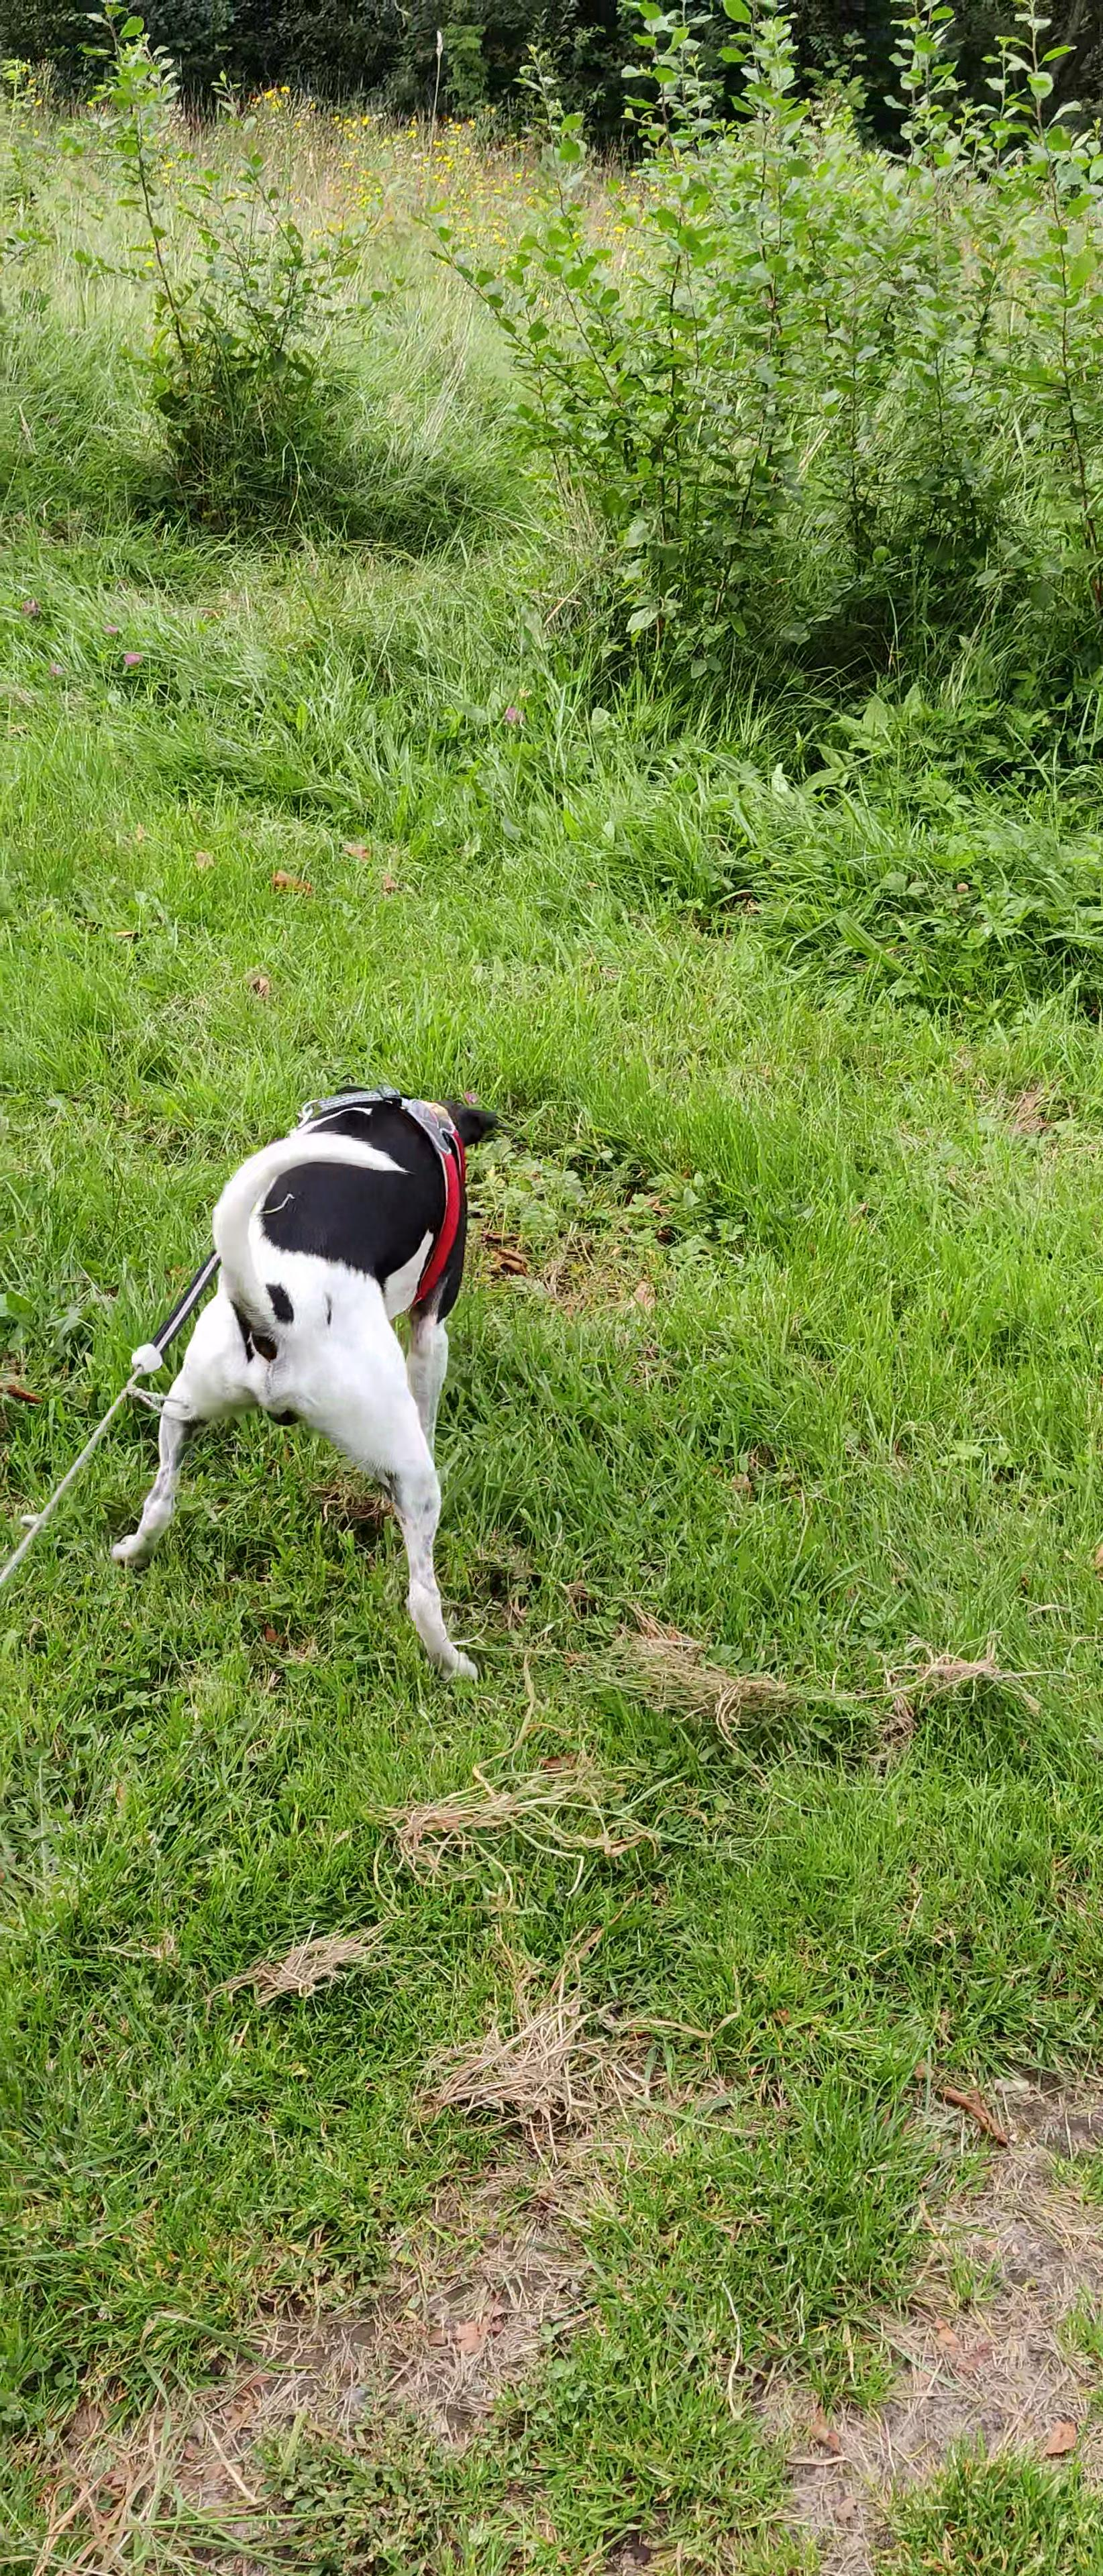Dog: (94, 1066, 511, 1705)
